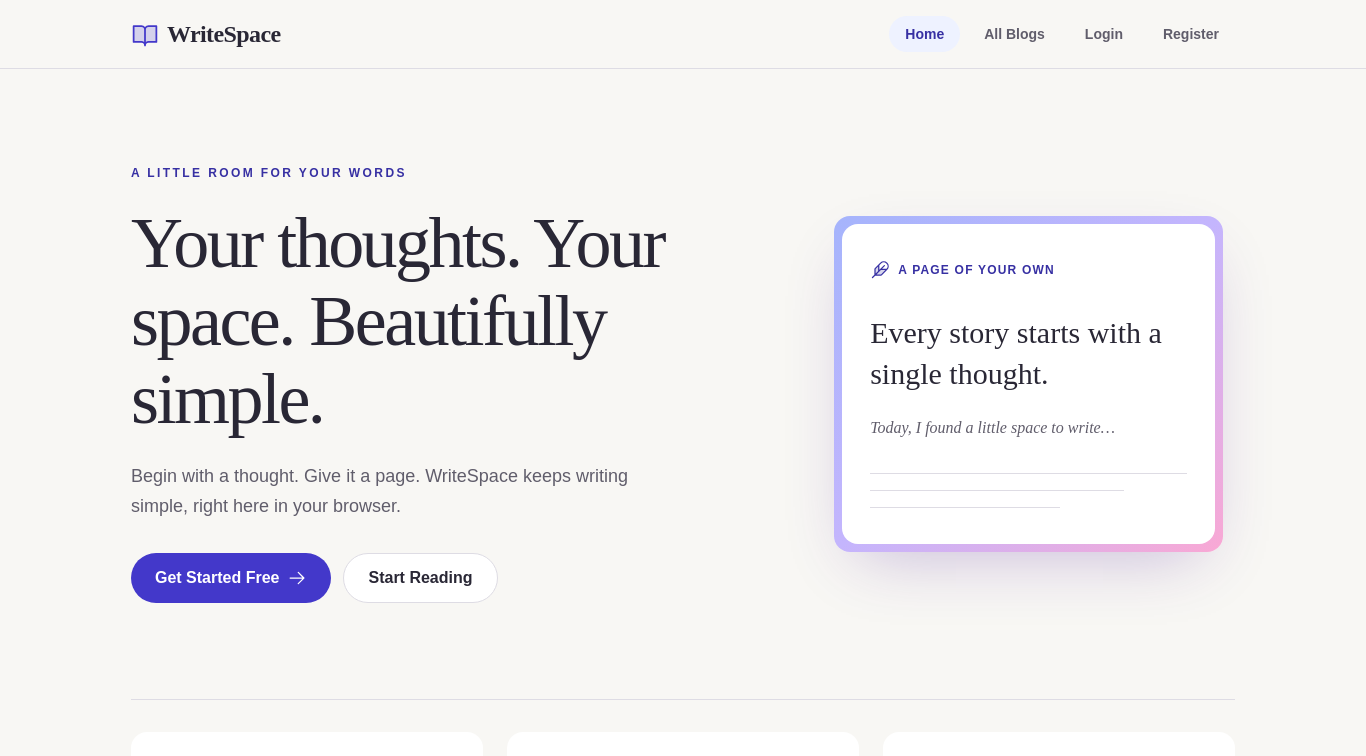
Test: working discovery shell › navigates only after clicking Get Started Free through identity routes and returns safely home
This screenshot has width=1366, height=756.
Click the link "Get Started Free" at (231, 578), box [131, 553, 332, 603]
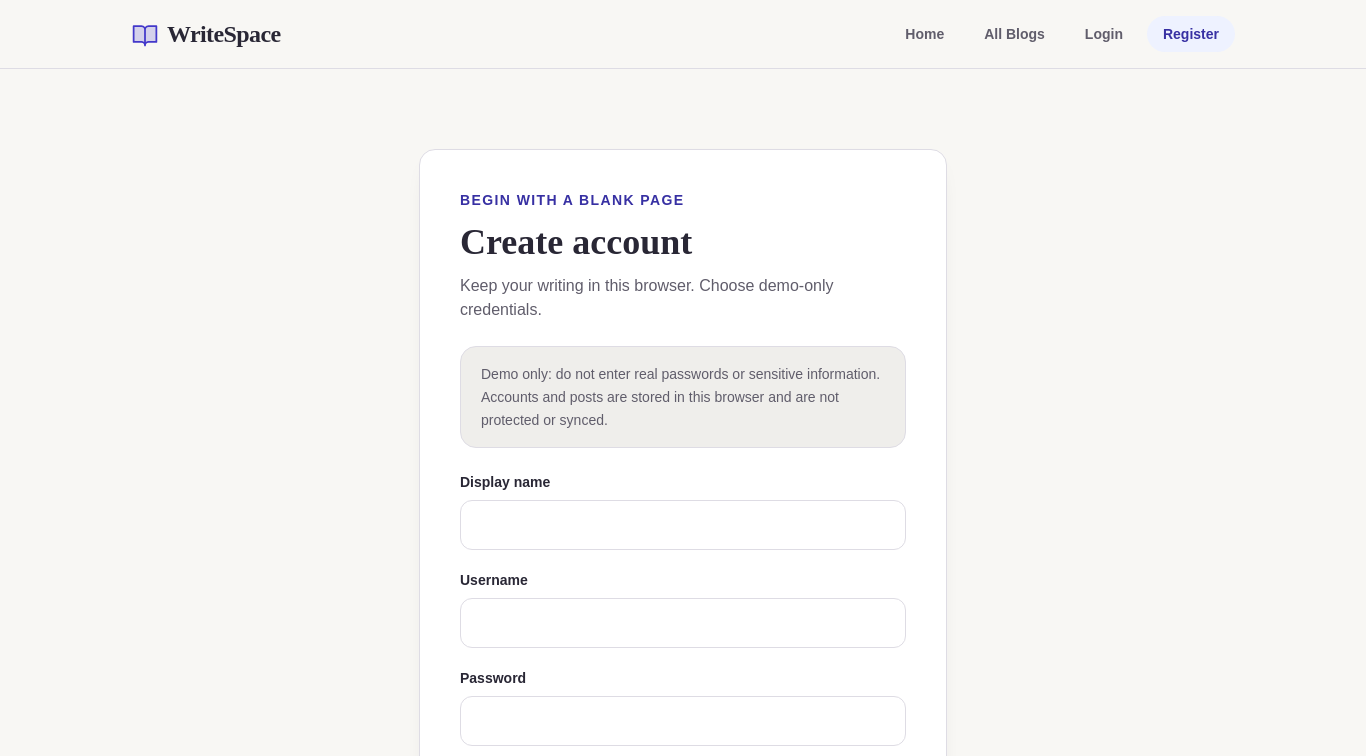
Check: the heading "Create account" is shown, box [460, 222, 692, 262]
Click the link "Home" at (925, 34), box [905, 26, 944, 42]
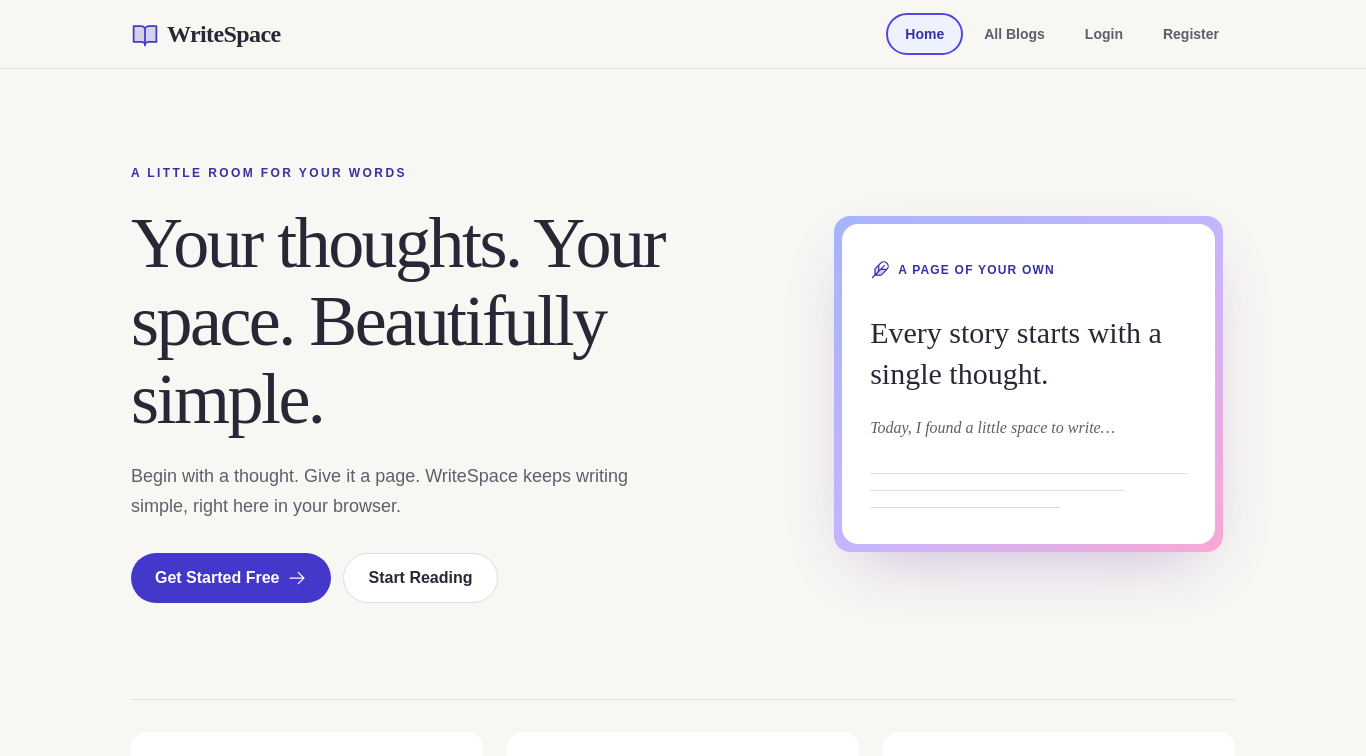
Check: the heading reads "Your thoughts. Your space. Beautifully simple.", box [131, 203, 664, 438]
